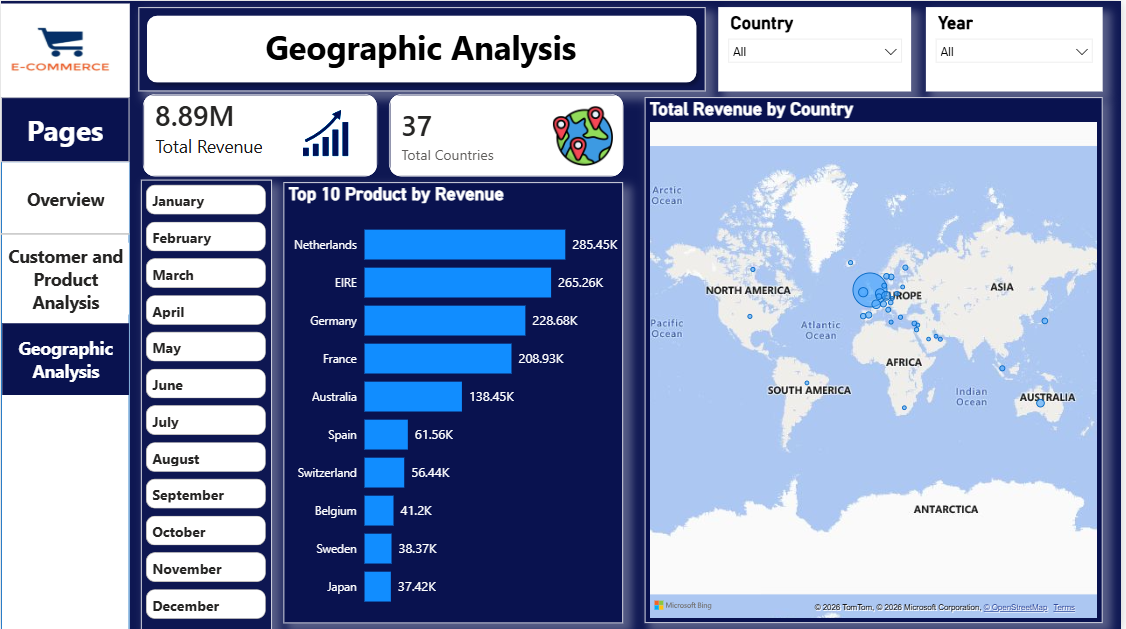

The dashboard page shown, as its layout file describes it:
{"tool":"powerbi","page":{"name":"Geographic Analysis","canvas":[1280,720],"ordinal":2},"visuals":[{"type":"image","box":[0,2.7,146.8,107],"z":0},{"type":"shape","box":[157.8,6.9,647.7,96.1],"z":1000},{"type":"advancedSlicerVisual","fields":{"Values":["Custome Calender 1.Date.Variation.Date Hierarchy.Month"]},"box":[160.5,204.5,149.6,516],"z":2000},{"type":"textbox","box":[297.8,23.3,437.7,63.1],"z":3000},{"type":"slicer","fields":{"Values":["Cleaned E-Commerse Data.Country"]},"box":[820,7.1,220,95.7],"z":4000},{"type":"slicer","fields":{"Values":["Custome Calender 1.Date.Variation.Date Hierarchy.Year"]},"box":[1057.1,7.1,201.4,95.7],"z":5000},{"type":"shape","box":[0,183.9,146.8,536.5],"z":6000},{"type":"shape","box":[0,109.8,146.8,74.1],"z":7000},{"type":"pageNavigator","box":[1.4,183.9,145.5,269],"z":8000},{"type":"clusteredBarChart","title":"Top 10 Product by Revenue","fields":{"Y":["Cleaned E-Commerse Data.Total Revenue"],"Category":["Cleaned E-Commerse Data.Country"]},"box":[322.5,207.2,388.3,503.6],"z":9000},{"type":"cardVisual","fields":{"Data":["Cleaned E-Commerse Data.Total Revenue"]},"box":[157.8,101.5,278.6,104.3],"z":10000},{"type":"cardVisual","fields":{"Data":["Cleaned E-Commerse Data.Total Countries"]},"box":[439.1,101.5,278.6,104.3],"z":11000},{"type":"map","fields":{"Category":["Cleaned E-Commerse Data.Country"],"Size":["Cleaned E-Commerse Data.Total Revenue"]},"box":[735.5,109.8,522.8,601],"z":12000},{"type":"shape","box":[0,259.3,146.8,12.3],"z":13000}]}

Visuals, with their boxes in screenshot pixels (x1, y1, x2, y2), scaled from the page's 1280x720 canvas onto the 1126x629 screenshot:
image: region(0, 2, 129, 96)
shape: region(139, 6, 709, 90)
advancedSlicerVisual - Custome Calender 1.Date.Variation.Date Hierarchy.Month: region(141, 179, 273, 628)
textbox: region(262, 20, 647, 75)
slicer - Cleaned E-Commerse Data.Country: region(721, 6, 915, 90)
slicer - Custome Calender 1.Date.Variation.Date Hierarchy.Year: region(930, 6, 1107, 90)
shape: region(0, 161, 129, 628)
shape: region(0, 96, 129, 161)
pageNavigator: region(1, 161, 129, 396)
"Top 10 Product by Revenue" clusteredBarChart: region(284, 181, 625, 621)
cardVisual - Cleaned E-Commerse Data.Total Revenue: region(139, 89, 384, 180)
cardVisual - Cleaned E-Commerse Data.Total Countries: region(386, 89, 631, 180)
map - Cleaned E-Commerse Data.Country x Cleaned E-Commerse Data.Total Revenue: region(647, 96, 1107, 621)
shape: region(0, 227, 129, 237)
